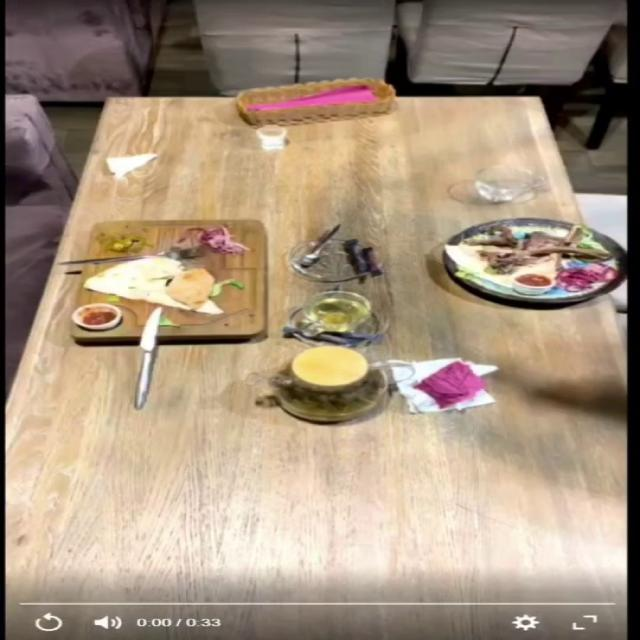meat: (446, 195, 640, 322)
tea: (263, 353, 405, 422)
